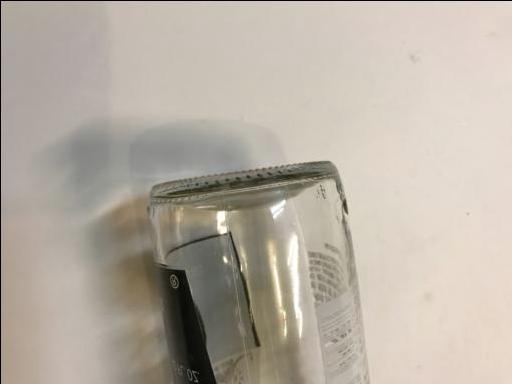alcohol: (146, 158, 374, 383)
glass: (146, 158, 374, 383)
sodocalcique: (146, 158, 374, 383)
